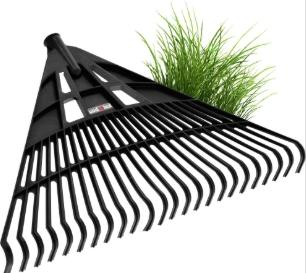RATEAU: (0, 7, 306, 273)
